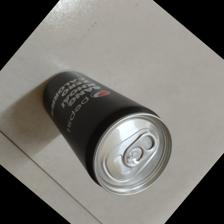Pepsi: (41, 69, 171, 196)
